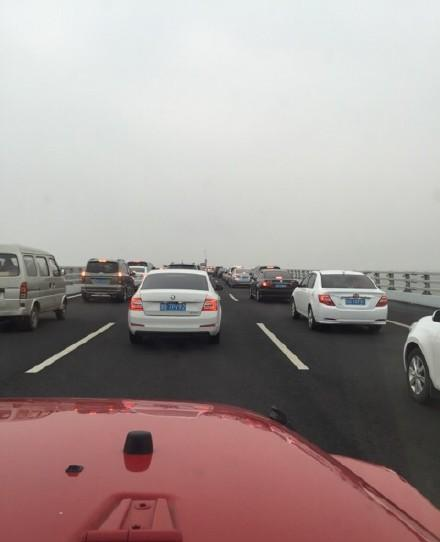car: (128, 267, 224, 344), (288, 268, 388, 329), (1, 241, 67, 328), (402, 304, 440, 402), (80, 257, 137, 301), (249, 268, 300, 302), (249, 264, 282, 290), (227, 267, 254, 288), (125, 264, 149, 287)
